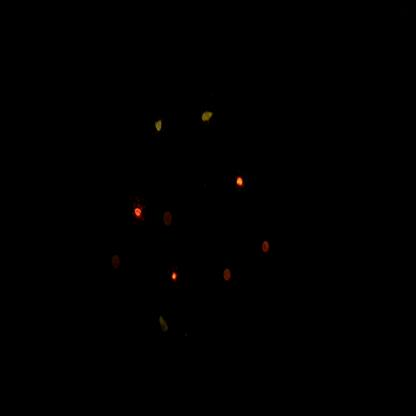PP: (199, 102, 222, 136), (152, 108, 171, 142), (156, 311, 176, 343)
PS: (256, 231, 274, 269), (109, 246, 127, 280), (220, 263, 237, 294), (161, 207, 177, 234)
PVC: (166, 262, 184, 292), (131, 197, 148, 228), (234, 169, 250, 200)
